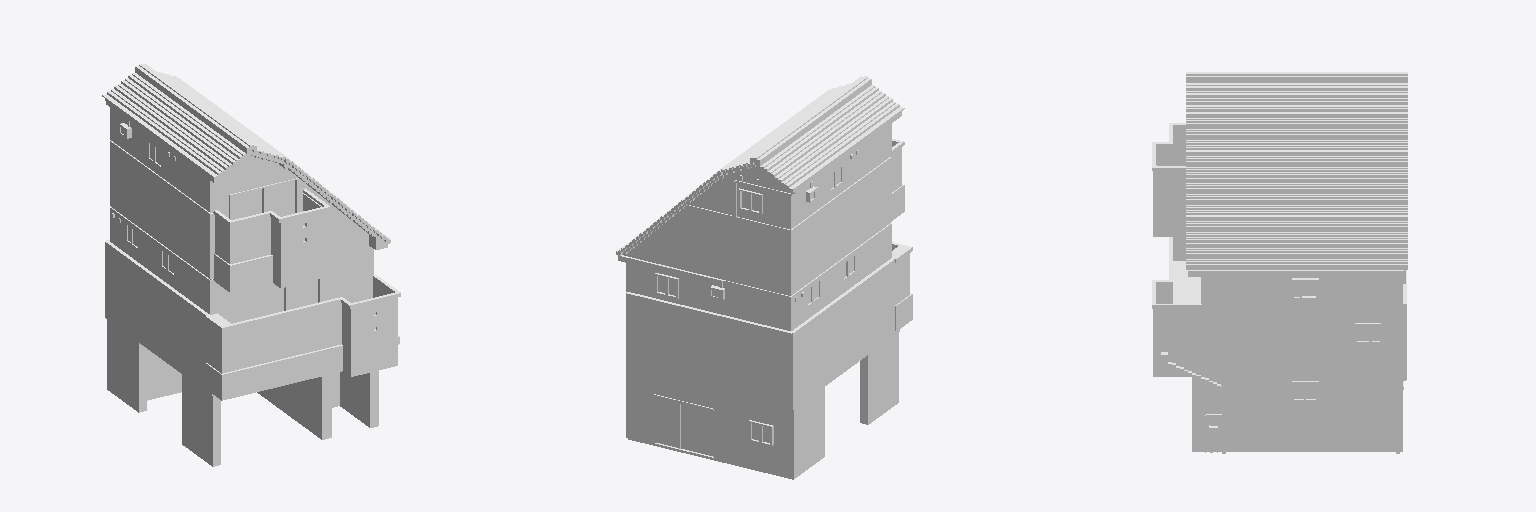
Rendered from GDS2_Build1-3.obj.
The picture shows the model from 3 angles: view 1: azimuth 30°, elevation 25°; view 2: azimuth 150°, elevation 25°; view 3: azimuth 270°, elevation 25°; orthographic projection.
Parts seen in each view (by area): view 1: object 1; view 2: object 1; view 3: object 1.
Part boxes in pixels (x1,y1,x2,y2): object 1: (102, 64, 400, 466); object 1: (616, 76, 912, 479); object 1: (1152, 72, 1407, 453).
Bounding box in the file's own units: 15.2 × 25.6 × 18.9.